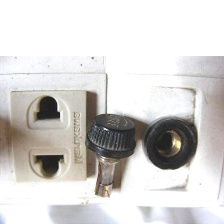three_eye_plug: (0, 53, 224, 213)
